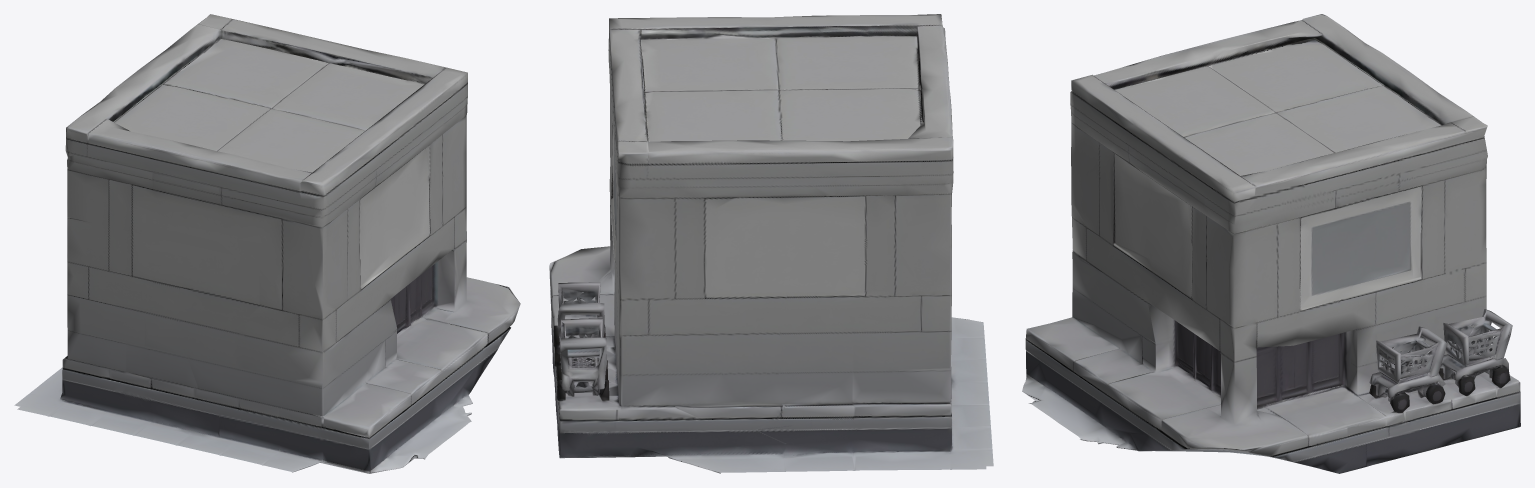
File: aeon.glb
3 views of the same model, side by side, from view 1: azimuth 30°, elevation 25°; view 2: azimuth 150°, elevation 25°; view 3: azimuth 270°, elevation 25° (orthographic). The views are drawn at different scales.
Visible parts, largest first — view 1: tripo_node_8fcdaaab-7a70-4b5d-b1e9-adaed7d8a5c0; view 2: tripo_node_8fcdaaab-7a70-4b5d-b1e9-adaed7d8a5c0; view 3: tripo_node_8fcdaaab-7a70-4b5d-b1e9-adaed7d8a5c0.
Part boxes in pixels (x1,y1,x2,y2): tripo_node_8fcdaaab-7a70-4b5d-b1e9-adaed7d8a5c0: (14, 14, 520, 473); tripo_node_8fcdaaab-7a70-4b5d-b1e9-adaed7d8a5c0: (549, 14, 993, 473); tripo_node_8fcdaaab-7a70-4b5d-b1e9-adaed7d8a5c0: (1022, 14, 1520, 473).
Size of the model in its own units: 1.23 by 0.7343 by 1.16.
1 material, 1 textured.
